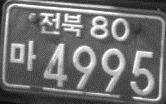0: (111, 15, 131, 41)
4: (43, 42, 70, 89)
5: (129, 48, 156, 95)
8: (90, 14, 109, 41)
9: (72, 44, 98, 91), (101, 47, 126, 94)
마: (8, 39, 37, 72)
전북_O: (38, 11, 83, 36)
